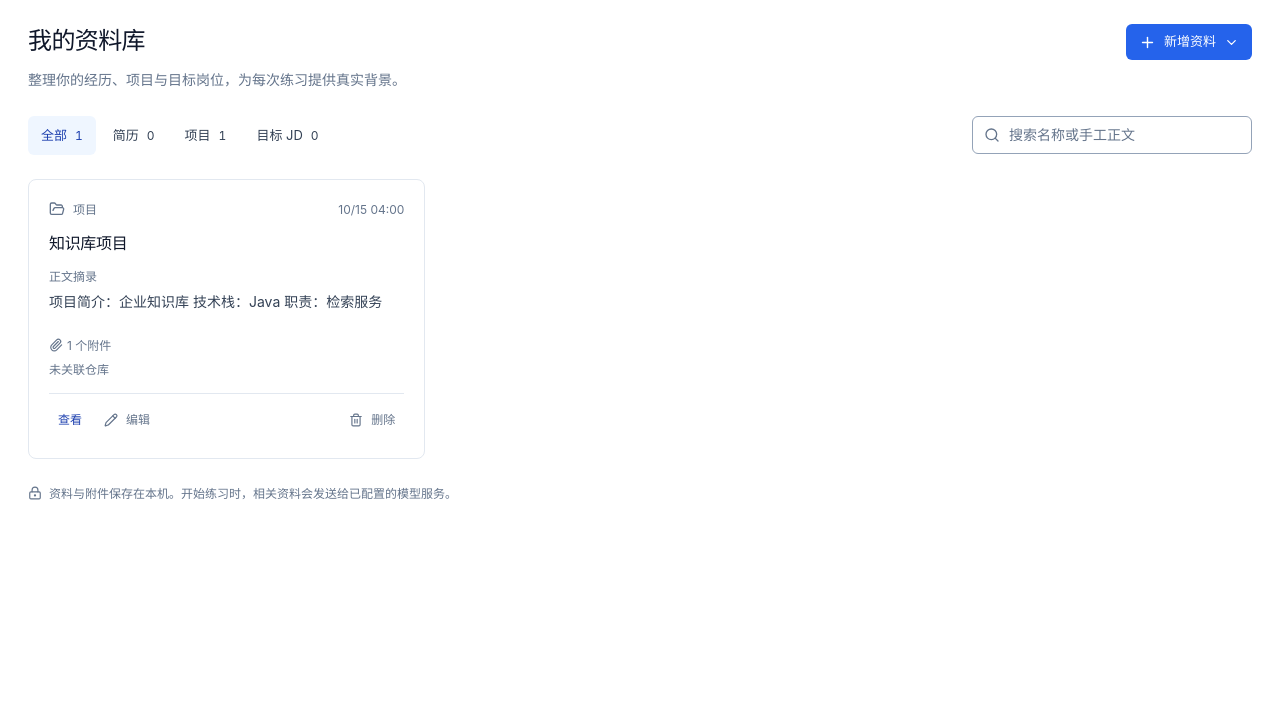
Test: 资料库页面（仅替换外部 HTTP） › 编辑项目只提交手工正文，保留独立的附件内容
Step 1. Click the button "项目 1" → [206, 135], box 172,116 -> 239,155
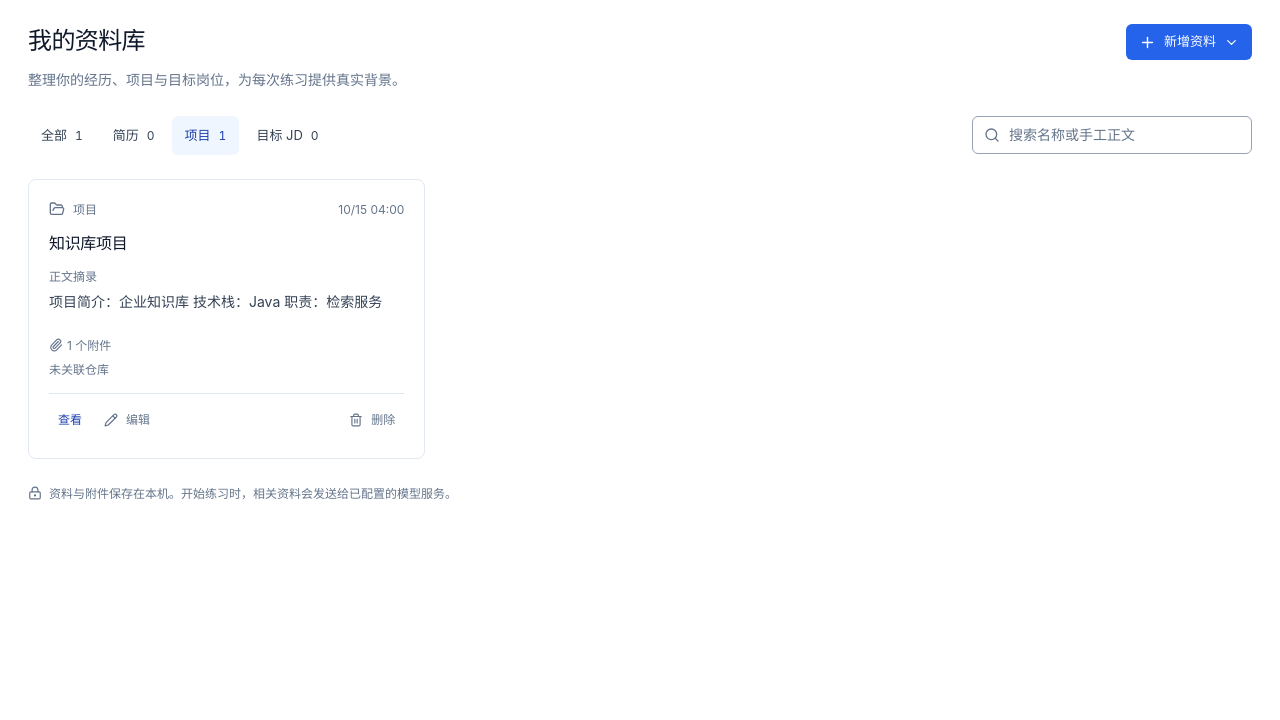
Step 2. Click the button "编辑" → [127, 420], box 95,402 -> 159,438
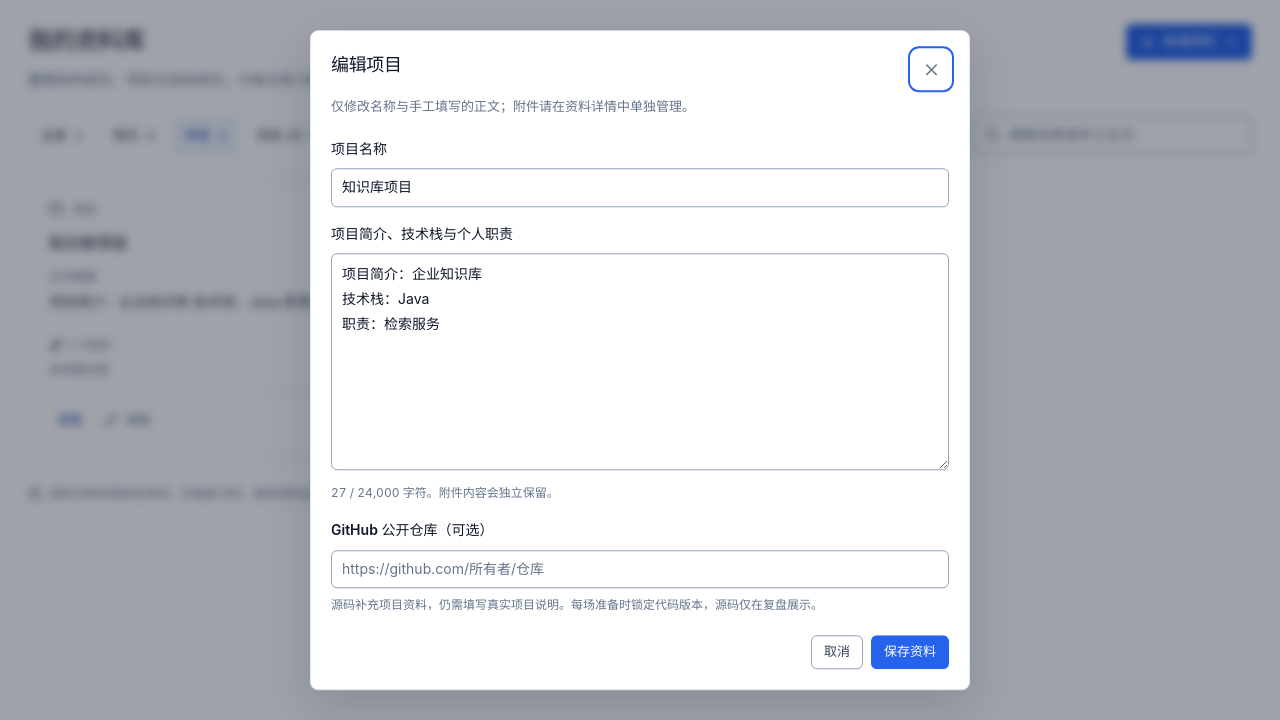
Step 3. Replace the text in the text box labelled "项目简介、技术栈与个人职责" with "更新后的手工职责" → [640, 362], box 331,253 -> 949,471
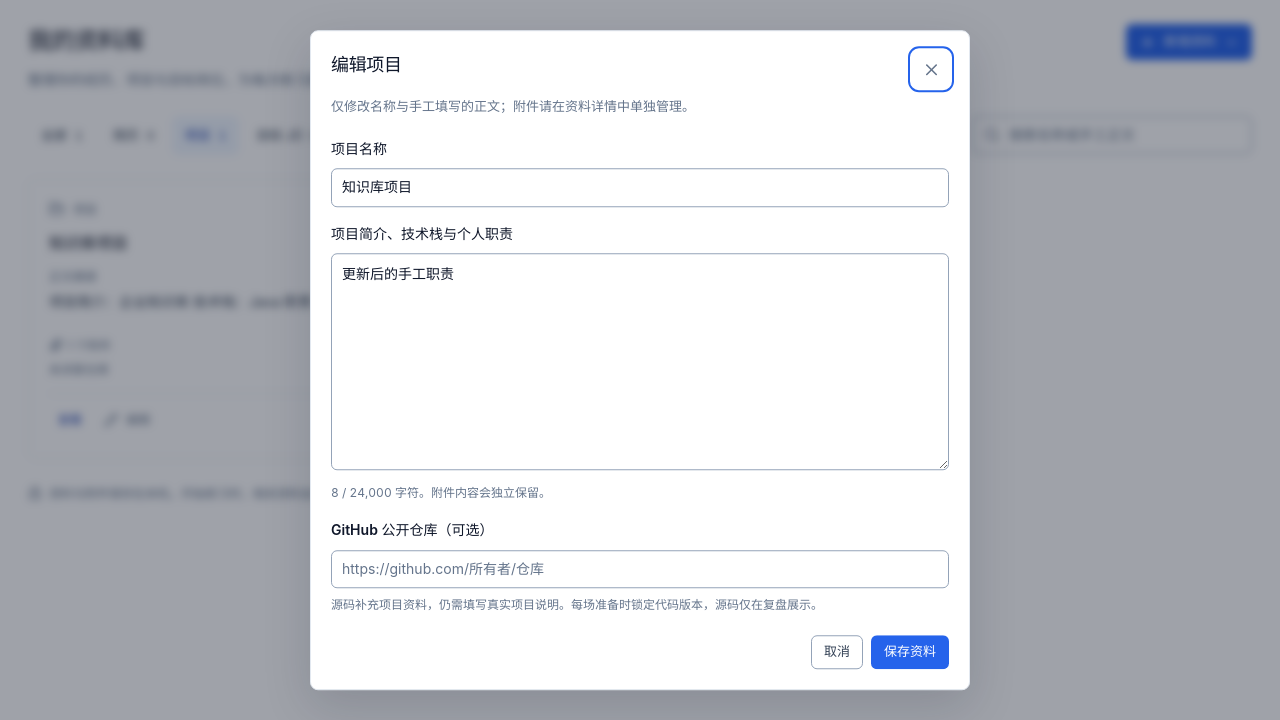
Step 4. Submit the form, box 331,138 -> 949,669
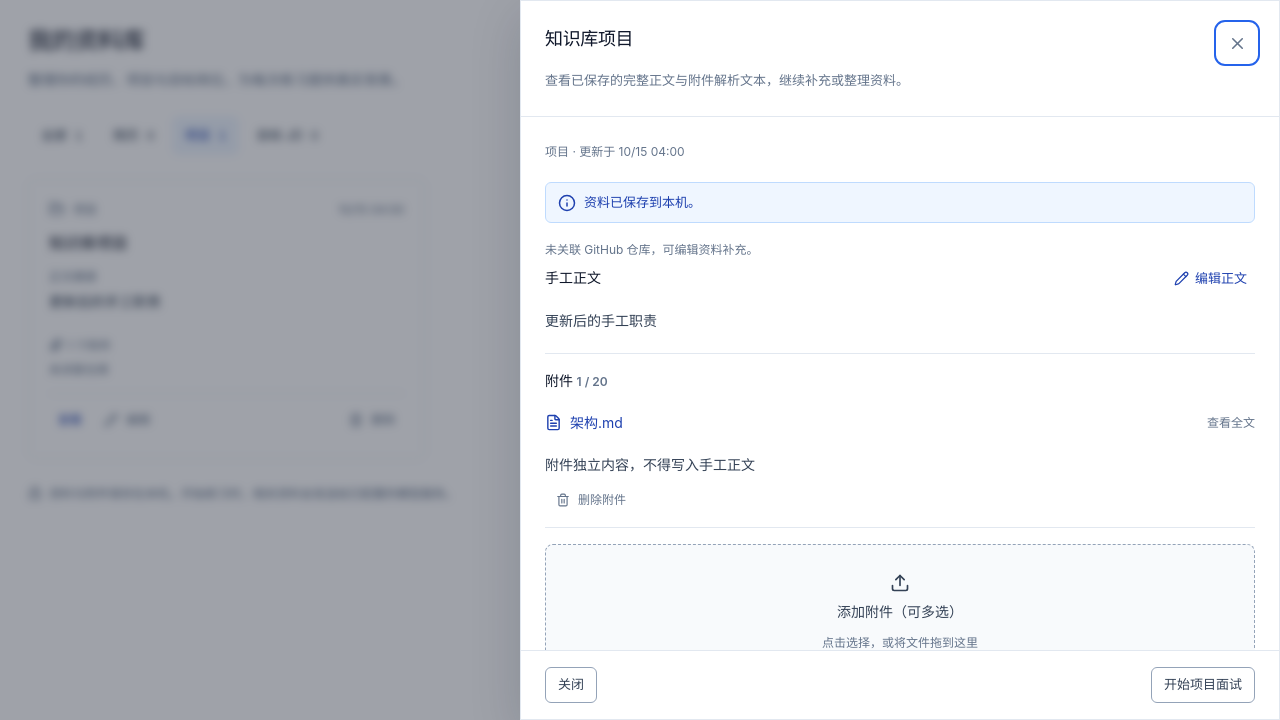
Expected: the dialog shows "更新后的手工职责", 545,312 -> 657,329
Expected: the dialog shows "附件独立内容，不得写入手工正文", 545,456 -> 755,473
